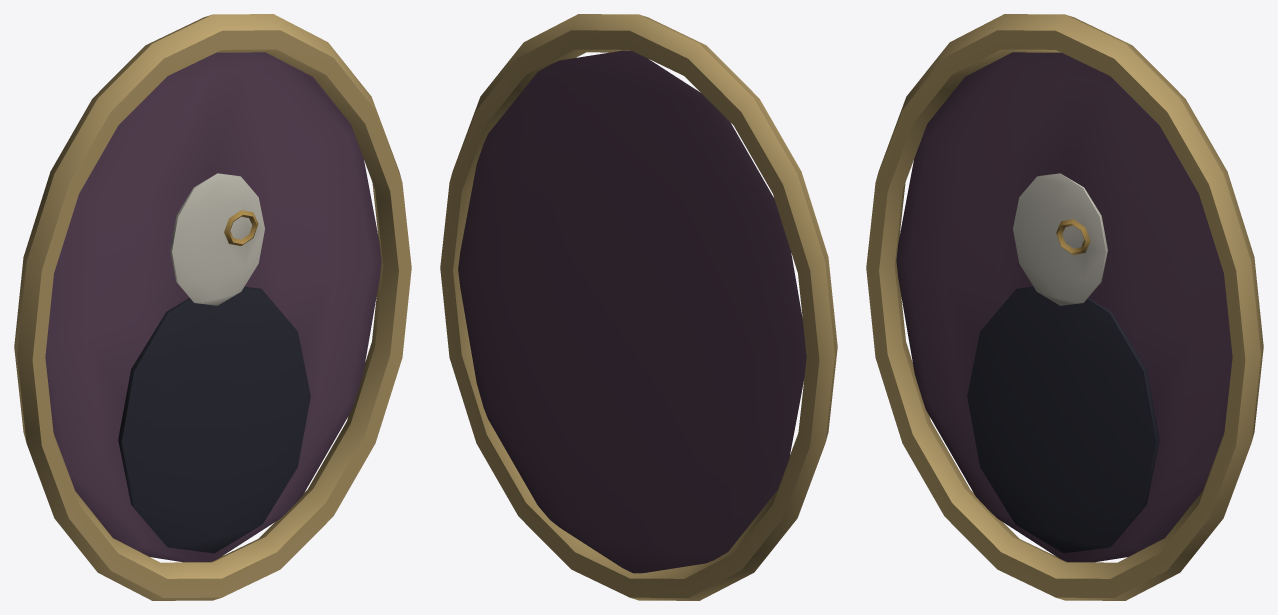
File: portrait_largeOval.glb
3 views of the same model, side by side, from view 1: azimuth 30°, elevation 25°; view 2: azimuth 150°, elevation 25°; view 3: azimuth 330°, elevation 25° (orthographic).
Parts seen in each view (by area): view 1: portrait_largeOval; view 2: portrait_largeOval; view 3: portrait_largeOval.
Part boxes in pixels (x1,y1,x2,y2): portrait_largeOval: [14, 14, 411, 600]; portrait_largeOval: [440, 14, 837, 600]; portrait_largeOval: [866, 14, 1263, 600].
Bounding box in the file's own units: 0.749 × 1.07 × 0.0734.
